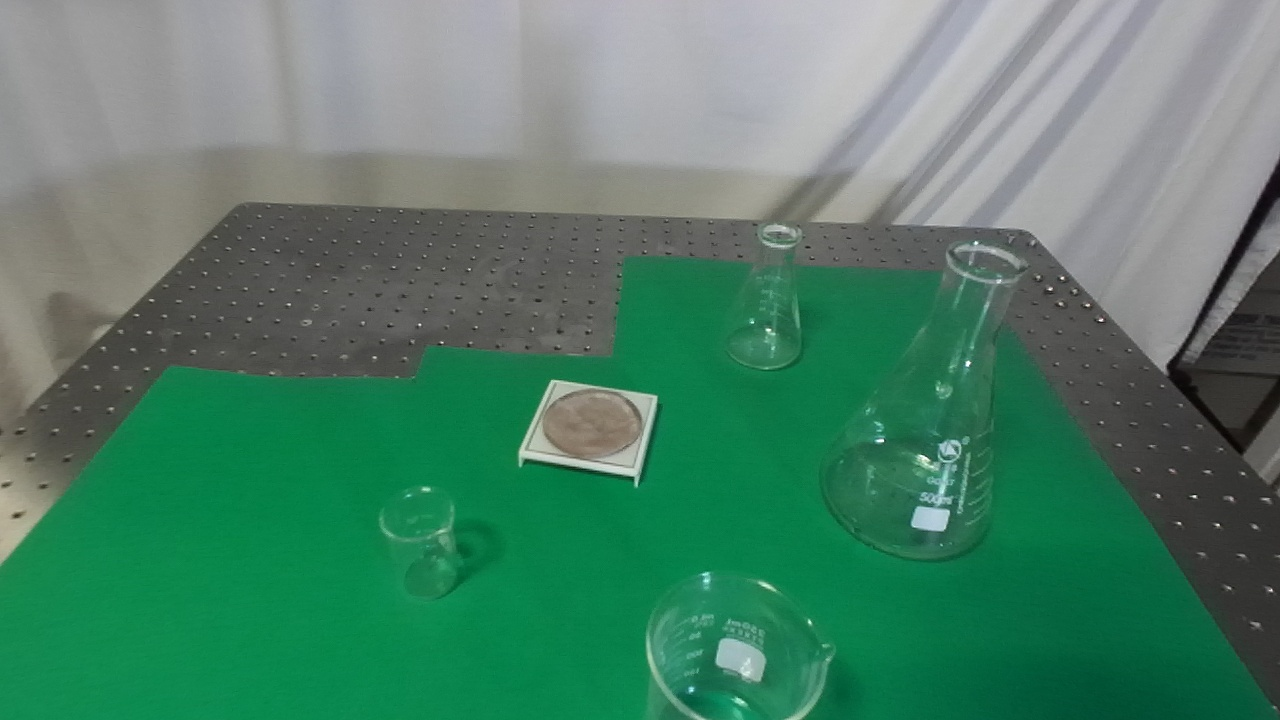glass: (814, 237, 1033, 568), (639, 564, 841, 720), (720, 219, 807, 374), (377, 481, 461, 608)
plate: (513, 373, 663, 485)
